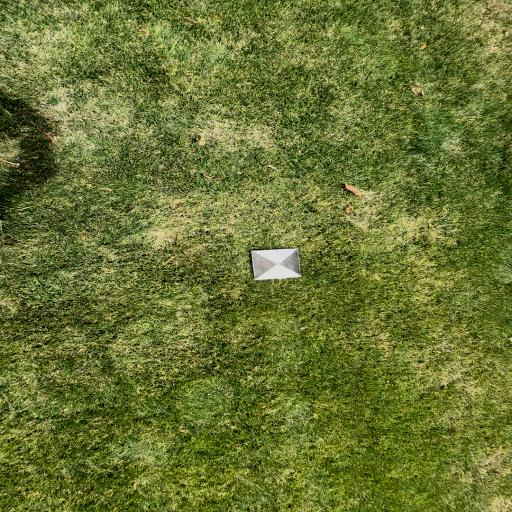target: (253, 249, 301, 279)
